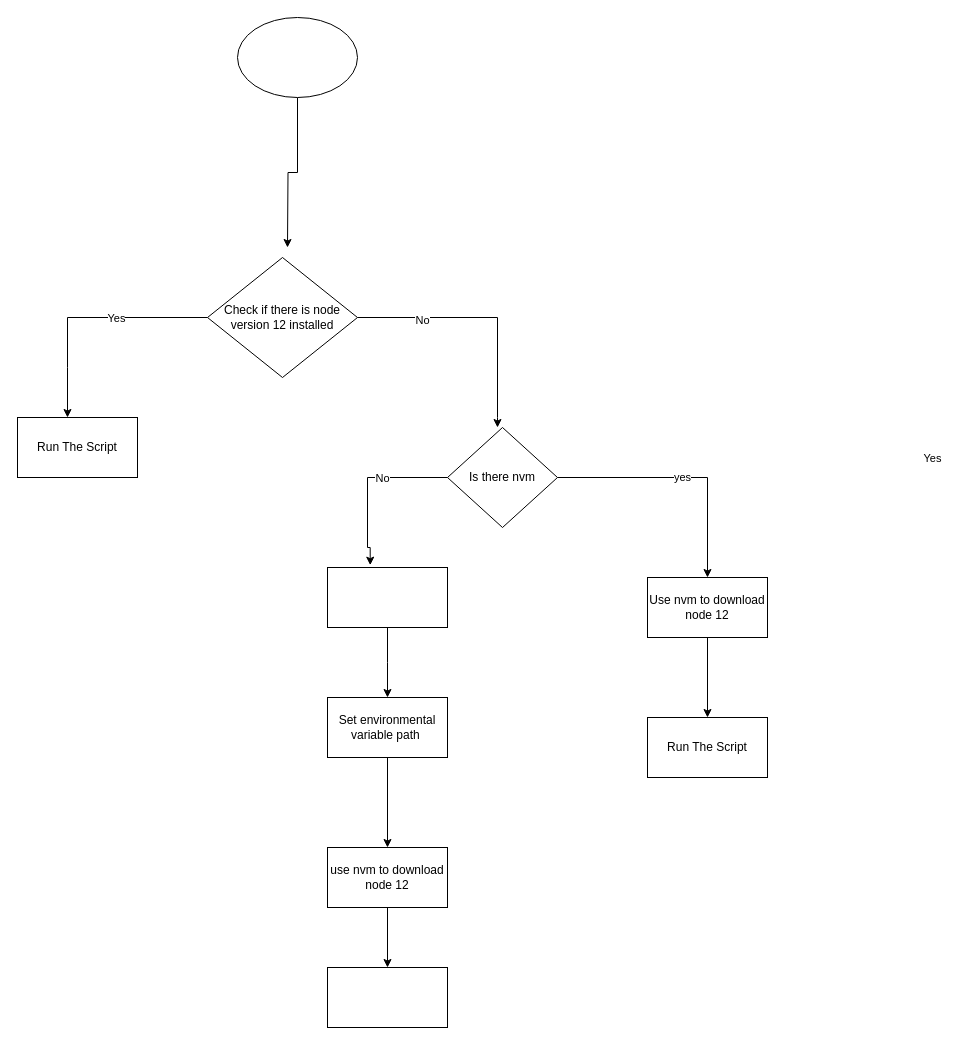
Image size: 958x1045. Some labels were removed from this diagram. Here are the shapes that lost their labels. From the top down, the box of each, then its label:
(236, 16, 358, 98): Start
(326, 566, 448, 628): Download nvm
(326, 966, 448, 1028): run script
